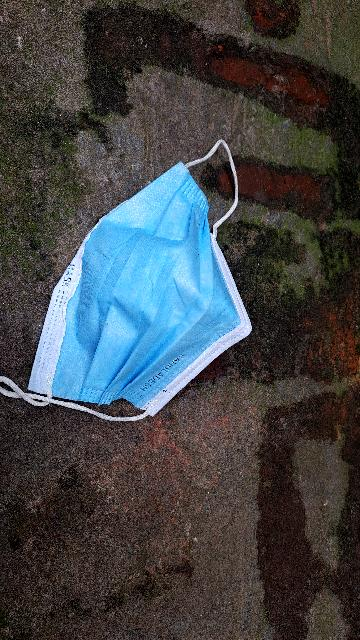mask: (0, 129, 280, 463)
